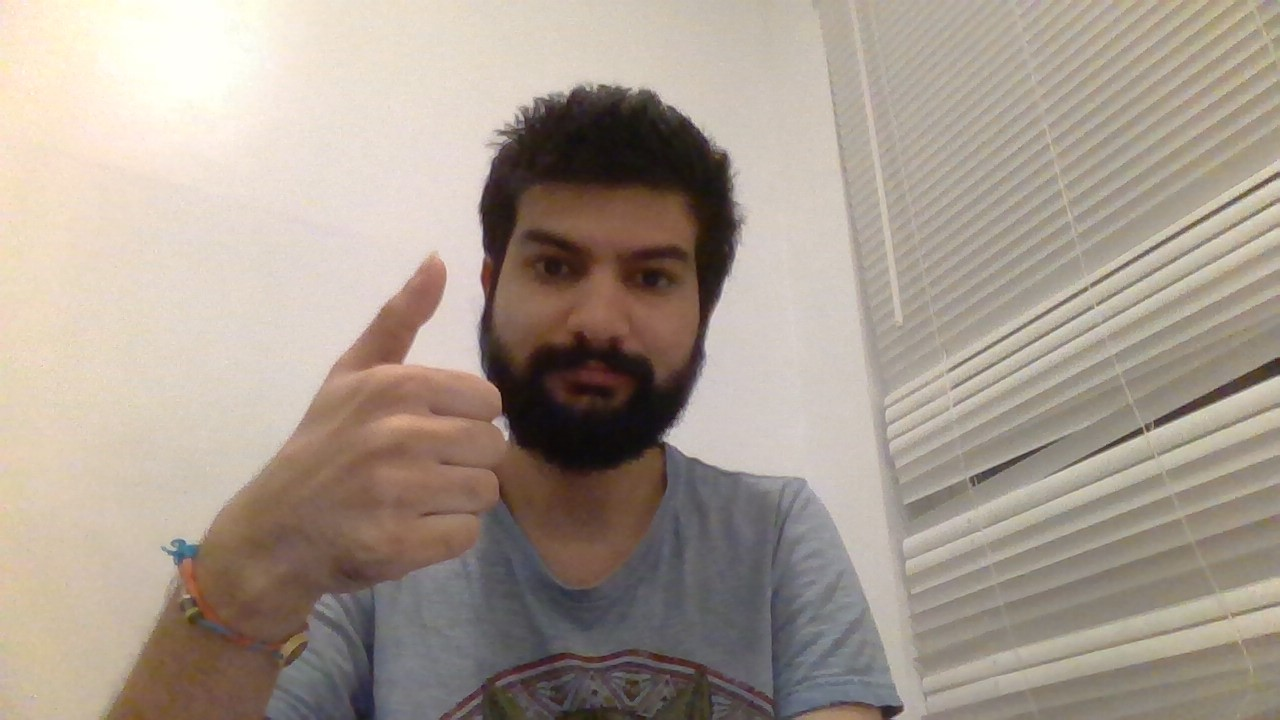up: (321, 245, 510, 572)
